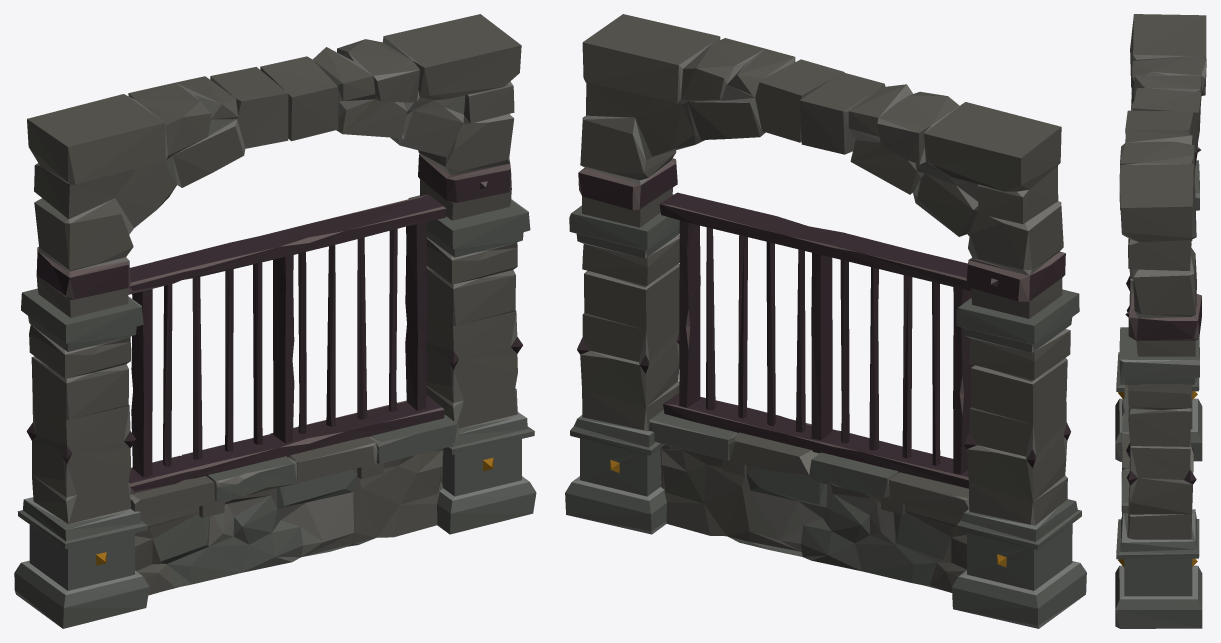
Rendered from MDungeons_Walls_MetalBars_02.FBX.
3 renders of one model, left to right at view 1: azimuth 30°, elevation 25°; view 2: azimuth 150°, elevation 25°; view 3: azimuth 270°, elevation 25°, orthographic. The views are drawn at different scales.
Visible parts, largest first — view 1: MDungeons_Walls_MetalBars_02_LOD0; view 2: MDungeons_Walls_MetalBars_02_LOD0; view 3: MDungeons_Walls_MetalBars_02_LOD0.
Boxes of the visible parts, <box> form: MDungeons_Walls_MetalBars_02_LOD0: <box>14,14,536,628</box>; MDungeons_Walls_MetalBars_02_LOD0: <box>565,14,1086,628</box>; MDungeons_Walls_MetalBars_02_LOD0: <box>1115,14,1206,628</box>.
Size of what is drawn, in the model's own units: 6.26 by 6.03 by 1.19.
